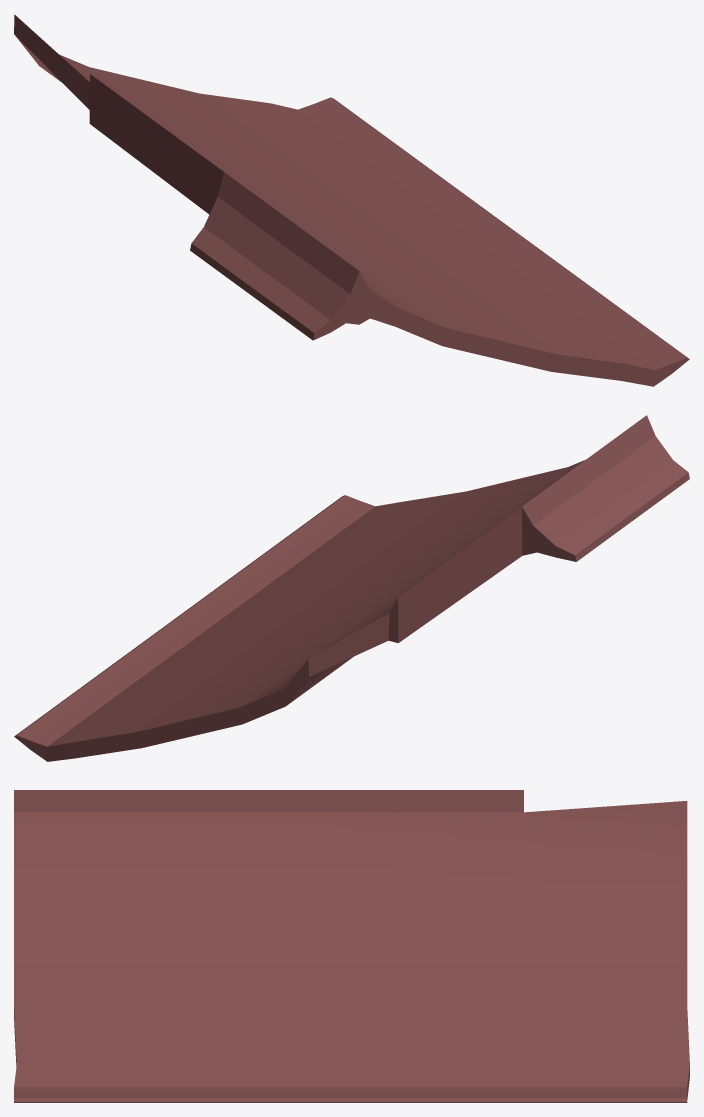
Rendered from KitchenRoof02.fbx.
3 views of the same model, one above another, from view 1: azimuth 30°, elevation 25°; view 2: azimuth 150°, elevation 25°; view 3: azimuth 270°, elevation 25° (orthographic). The views are drawn at different scales.
Visible parts, largest first — view 1: KitchenRoof; view 2: KitchenRoof; view 3: KitchenRoof.
Boxes of the visible parts, x1=… form: KitchenRoof: x1=14, y1=14, x2=689, y2=386; KitchenRoof: x1=14, y1=415, x2=689, y2=761; KitchenRoof: x1=14, y1=790, x2=689, y2=1102.
Size of the model in its own units: 24.12 by 11.44 by 39.63.
